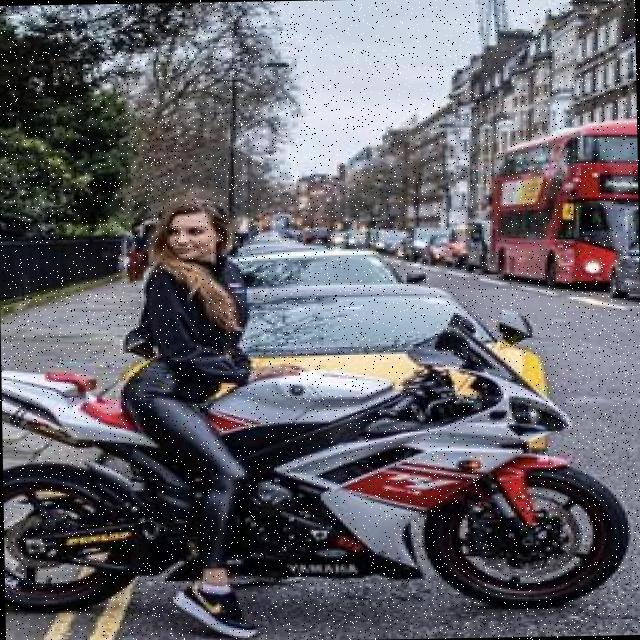No helmet: (143, 194, 234, 303)
